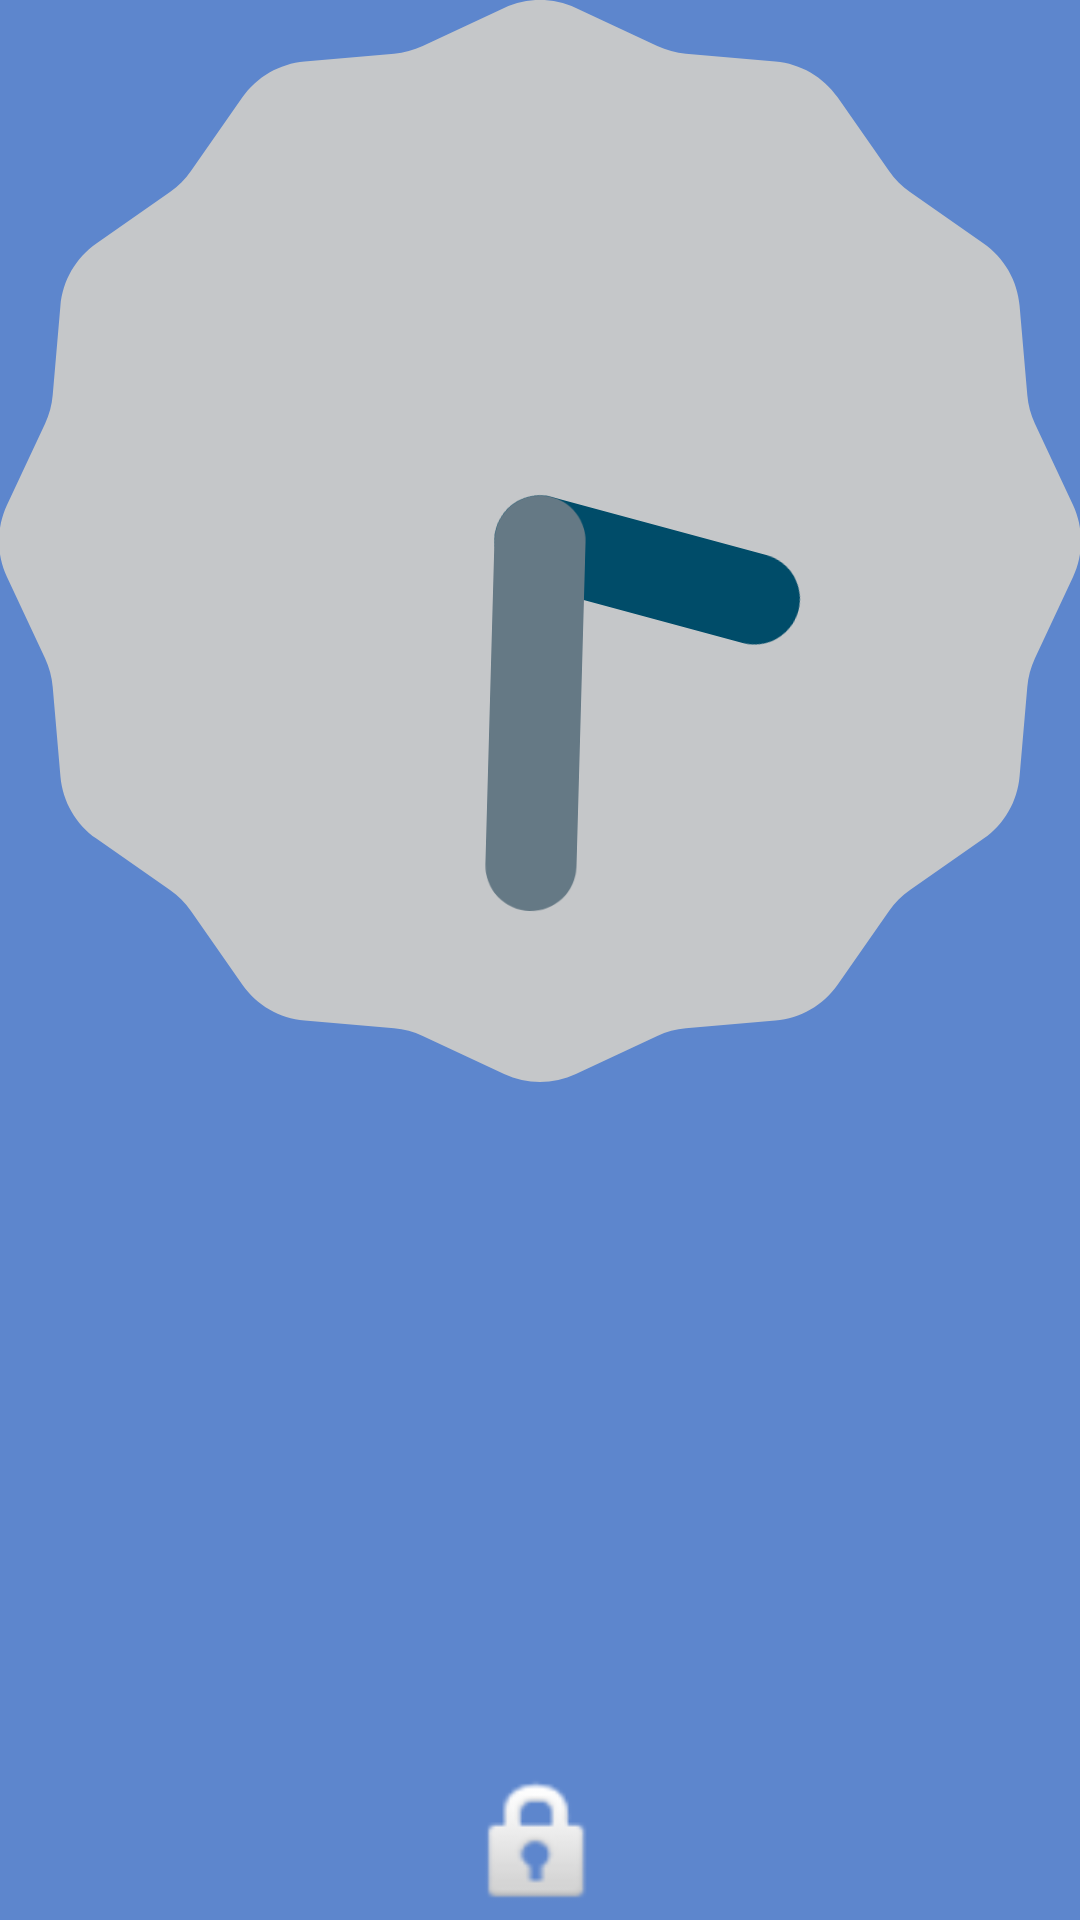

Icon click points for this 1080×1920 phone screenshot, format (x,y):
lock idle: (536,1840)
